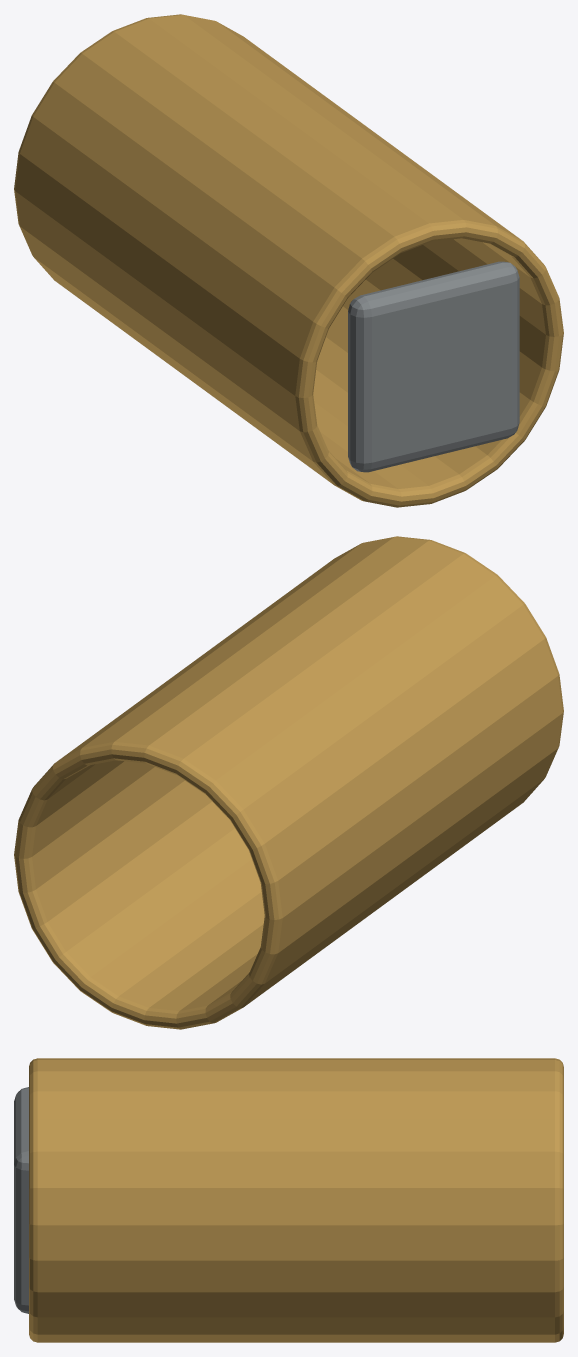
Rendered from pistol_casing.glb.
The picture shows the model from 3 angles, top to bottom: view 1: azimuth 30°, elevation 25°; view 2: azimuth 150°, elevation 25°; view 3: azimuth 270°, elevation 25°; orthographic projection. The views are drawn at different scales.
Visible parts, largest first — view 1: Casing; view 2: Casing; view 3: Casing.
Boxes of the visible parts, box(x1,y1,x2,y2) form: Casing: box(14, 14, 563, 507); Casing: box(14, 536, 563, 1029); Casing: box(14, 1058, 563, 1342).
Bounding box in the file's own units: 0.0096 × 0.0096 × 0.0185.
